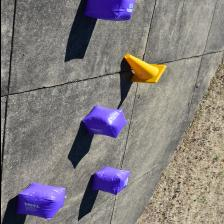cone: (122, 54, 166, 83)
cube: (16, 182, 64, 220), (80, 106, 127, 138), (90, 166, 130, 194), (83, 0, 135, 21)
